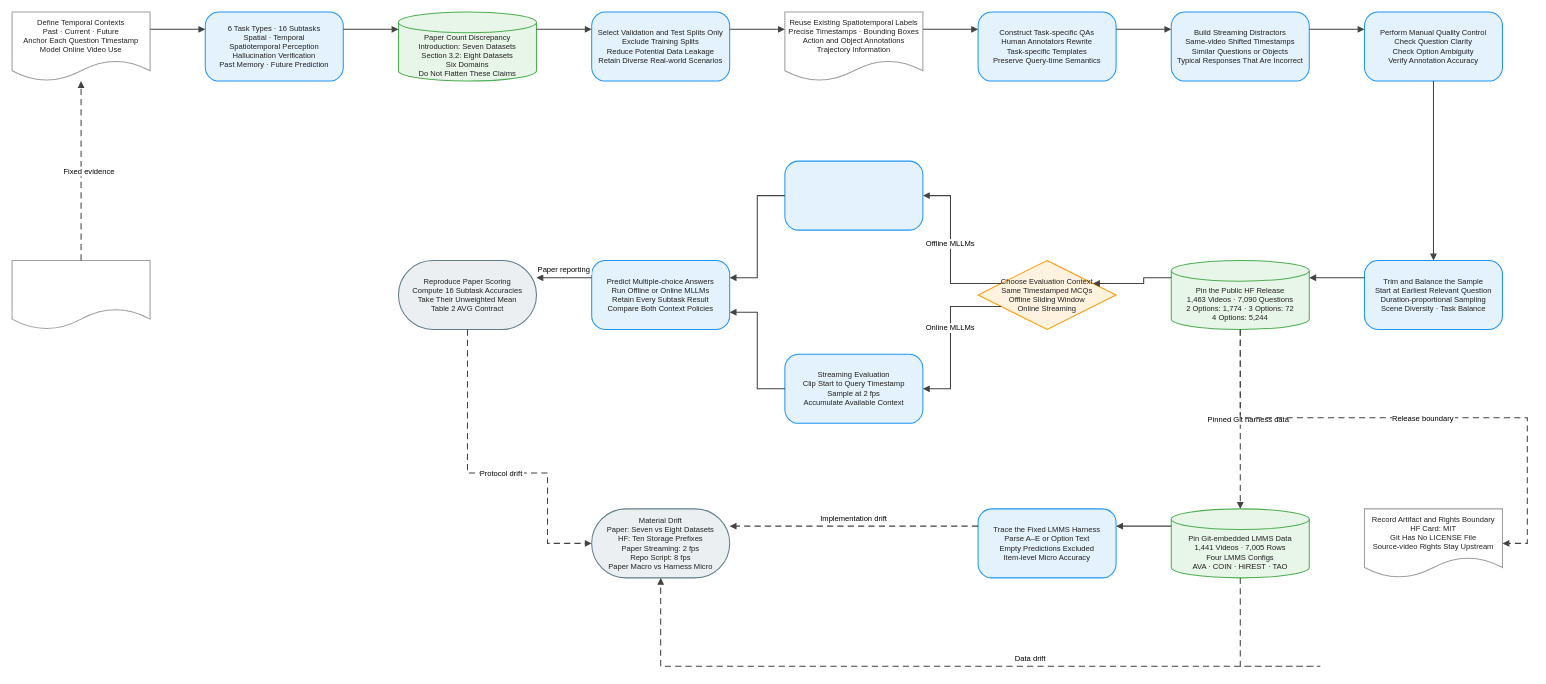
Image size: 1546x684. Some labels were removed from this diagram. The centre of each missing label's shape, as x and y in pixels:
"Fix Review Evidence arXiv:2501.00584v2 Git 012712a HF 4d9ddfa" belongs at point 80,295.
"Sliding-window Evaluation Prior 32 Seconds Sample at 2 fps At Most 64 Frames" belongs at point 853,195.
